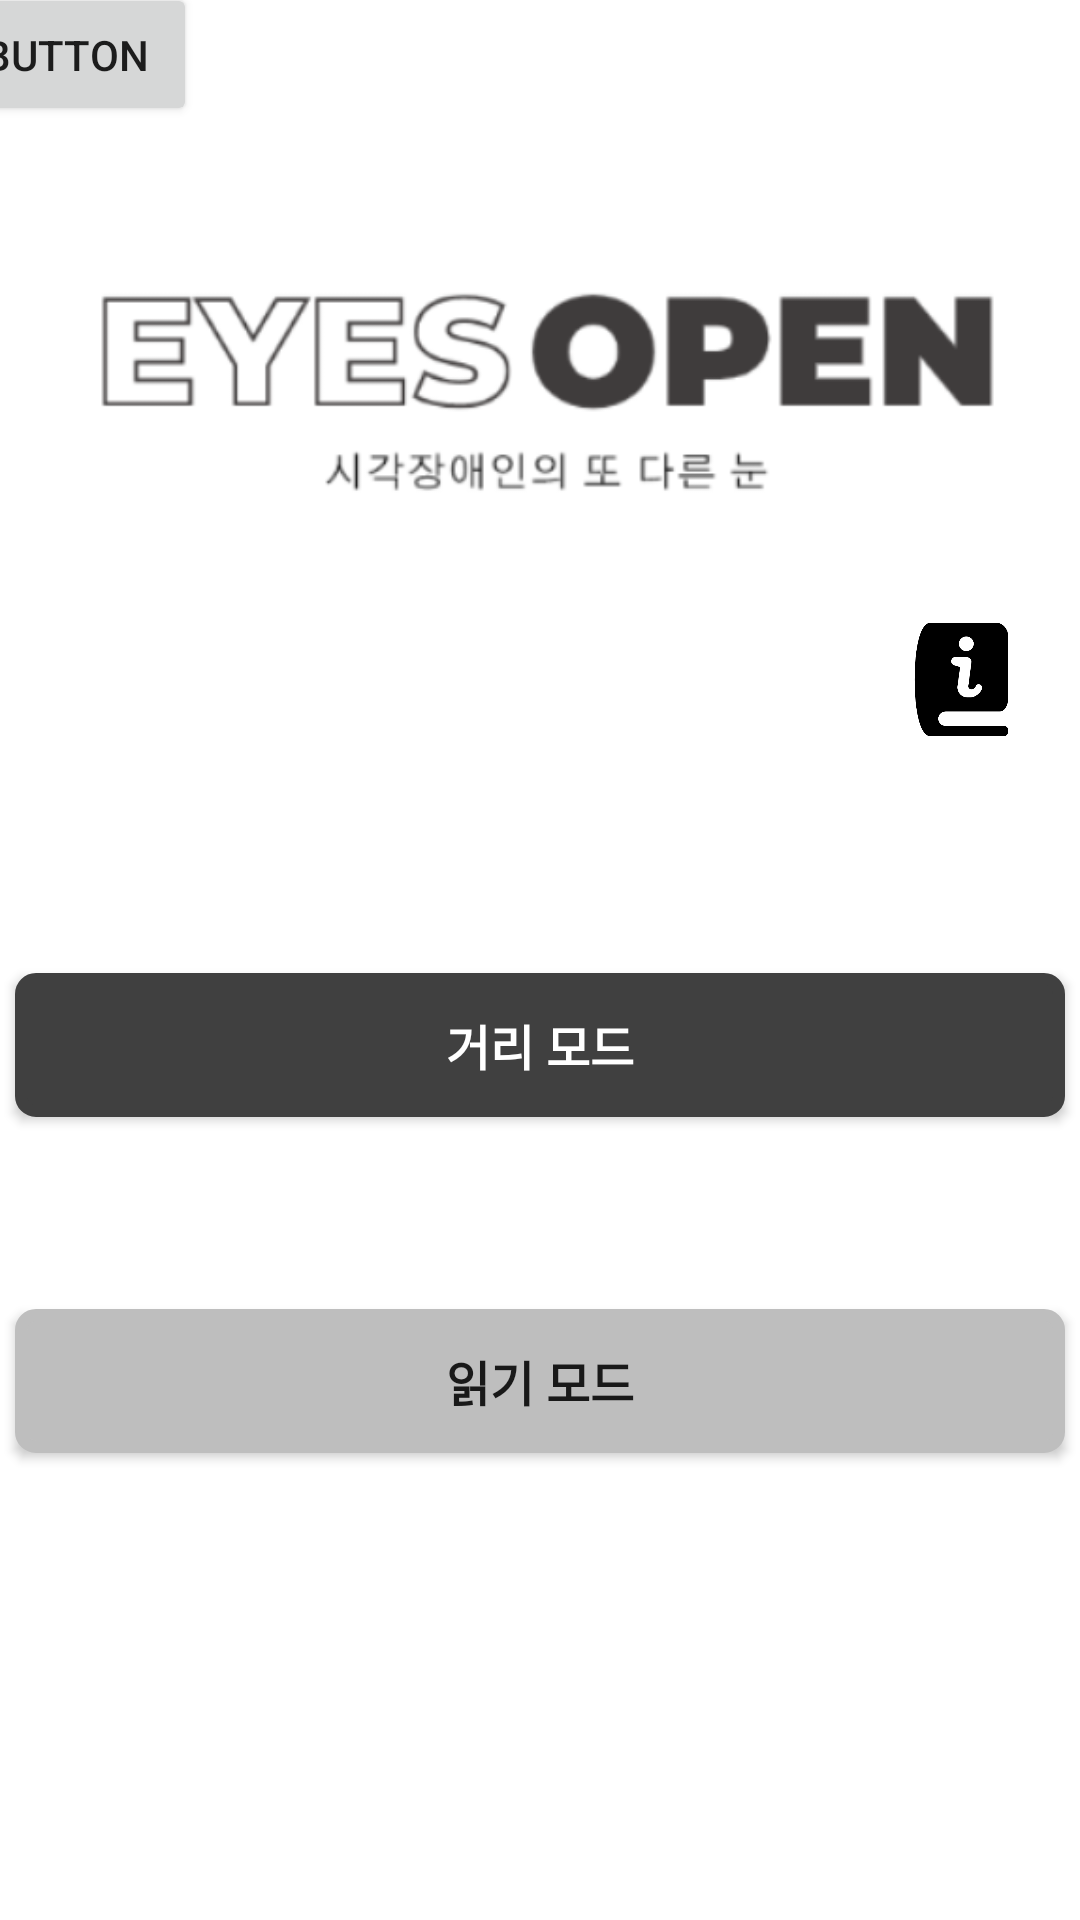

Locate icon controls on the screen. Image size 1080w x 1920h, boxes as (x1, y1, x2, y2).
free handbook: (915, 623, 1008, 736)
